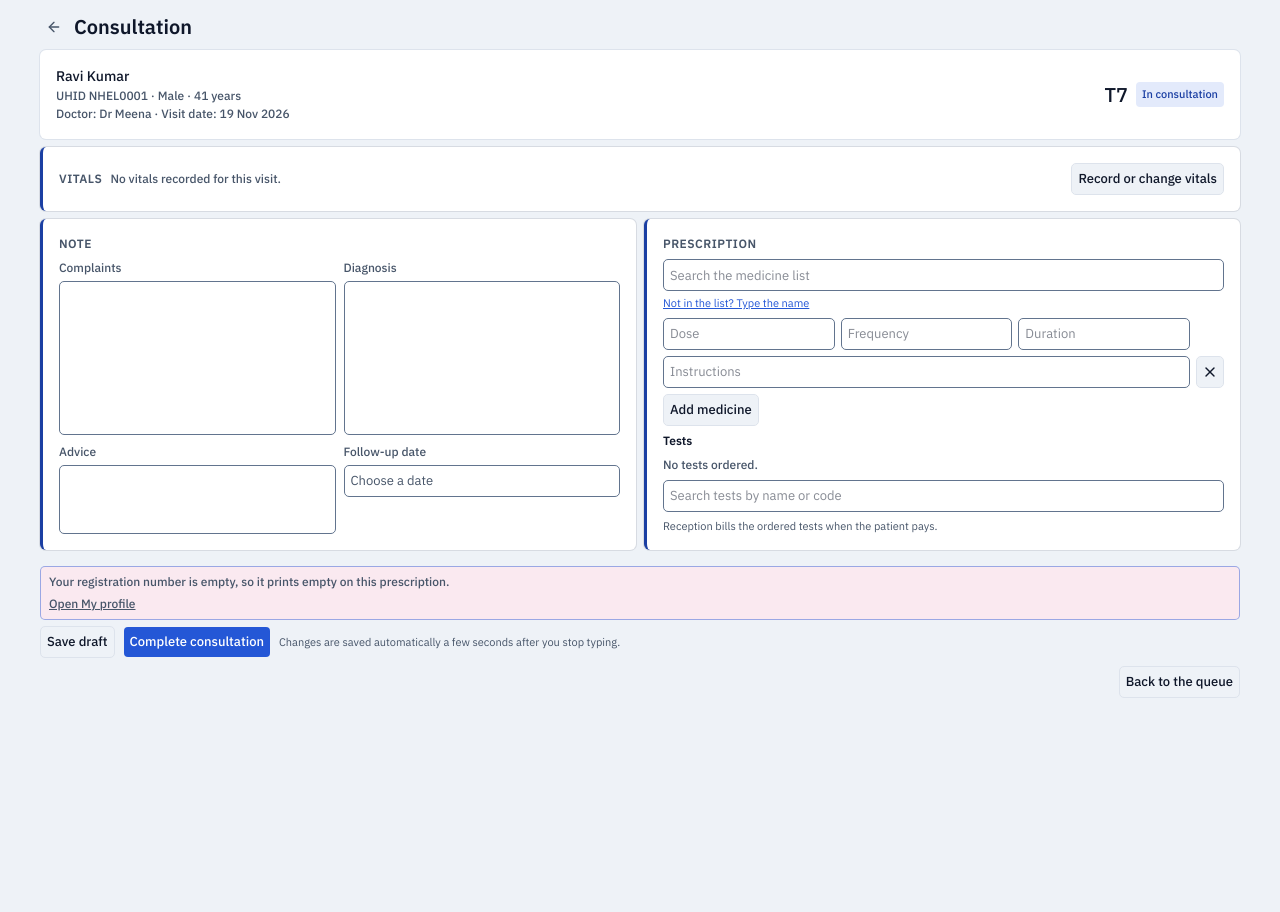
Scenario: doctor Tests box on the consultation screen › saves the list by itself after the autosave delay, and shows the server status
Type "mock" into the field named "Order a test" at point(944, 496), box [663,480,1224,512]
Wait 400 ms
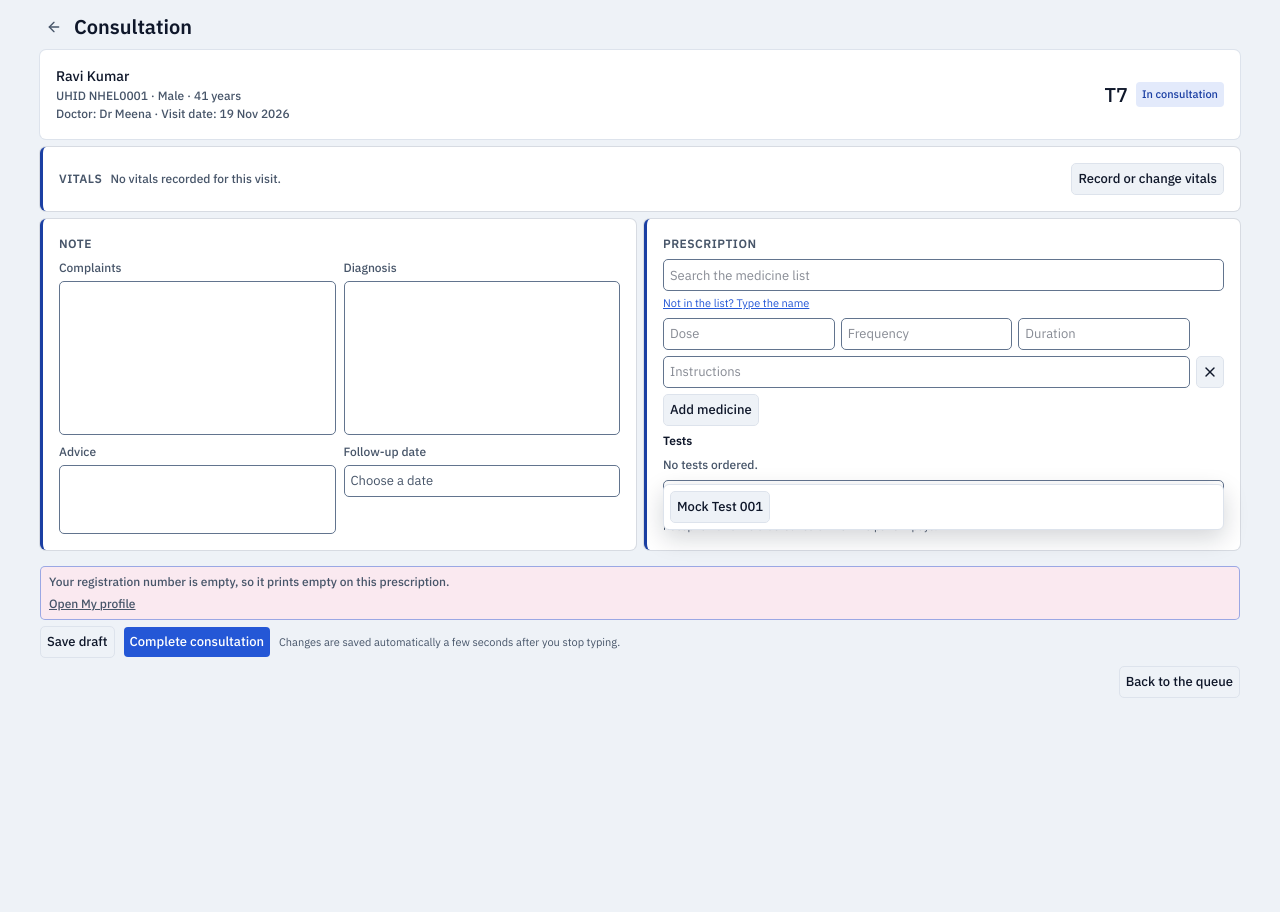
Click the button "Mock Test 001" at point(720, 506), box [670,490,770,522]
Wait 20000 ms
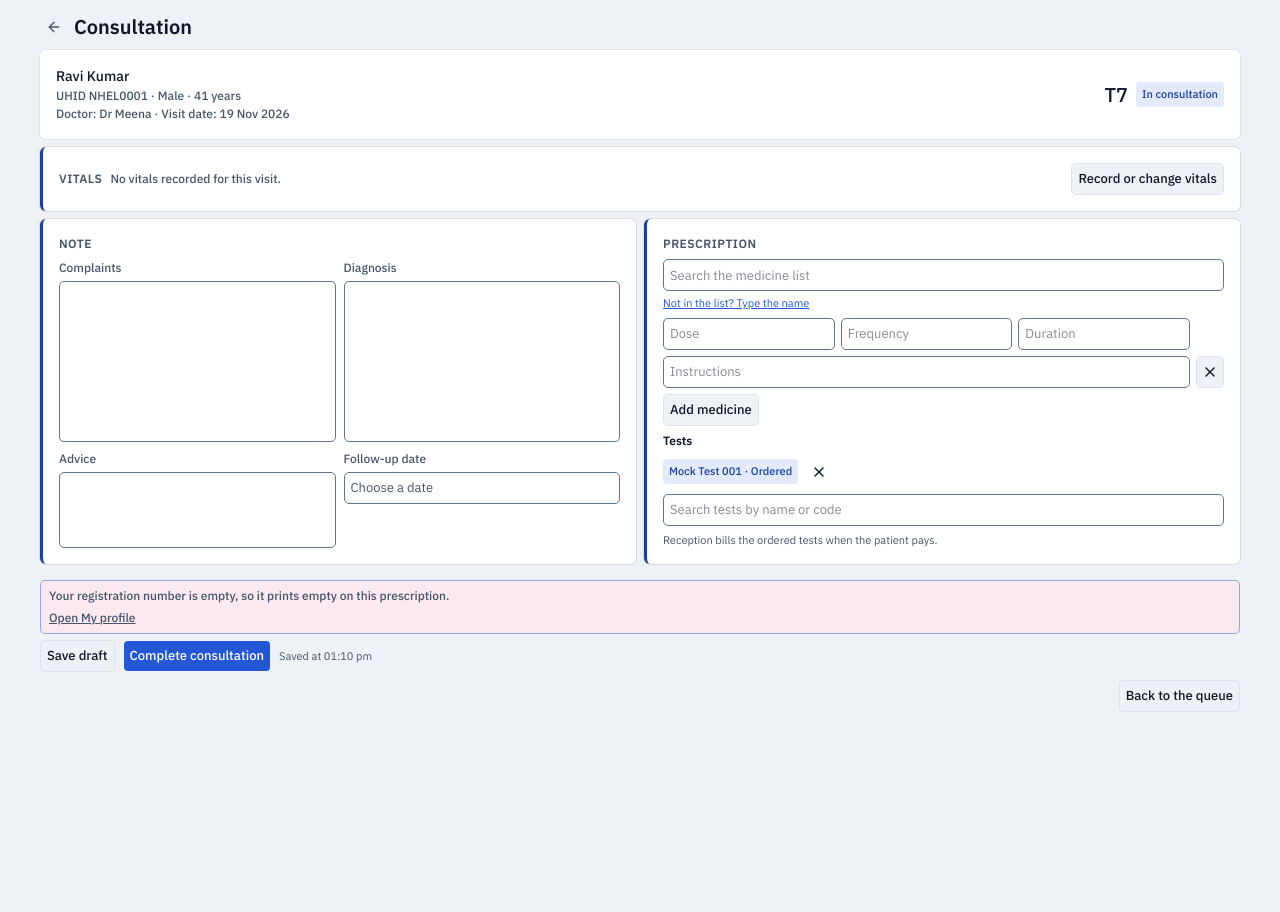
expect the text "Mock Test 001 · Ordered" is shown: met, box [663,459,798,484]
